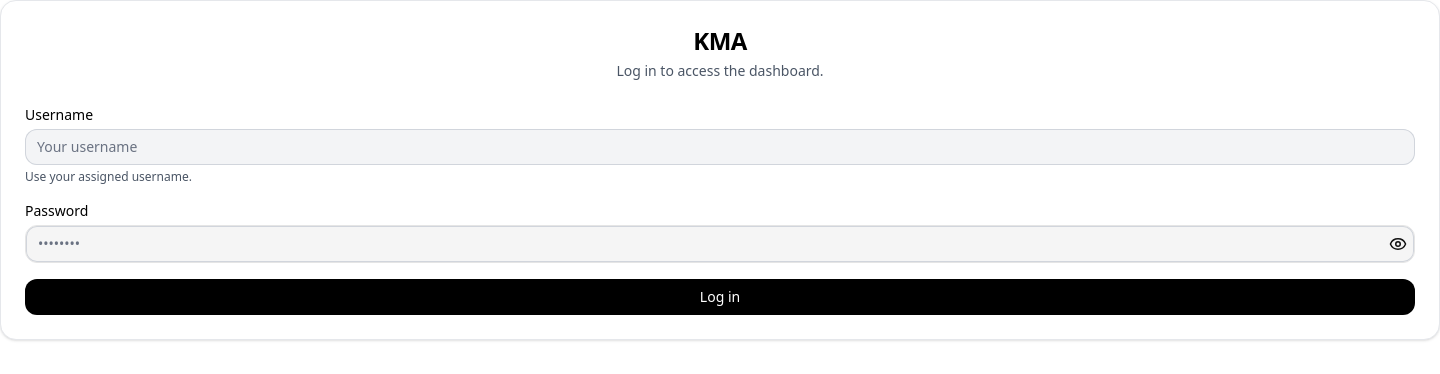
it: LoginForm › shows an error message when login fails
Type "admin" into the field labelled "Username" at (720, 147), box left=25, top=129, right=1415, bottom=165
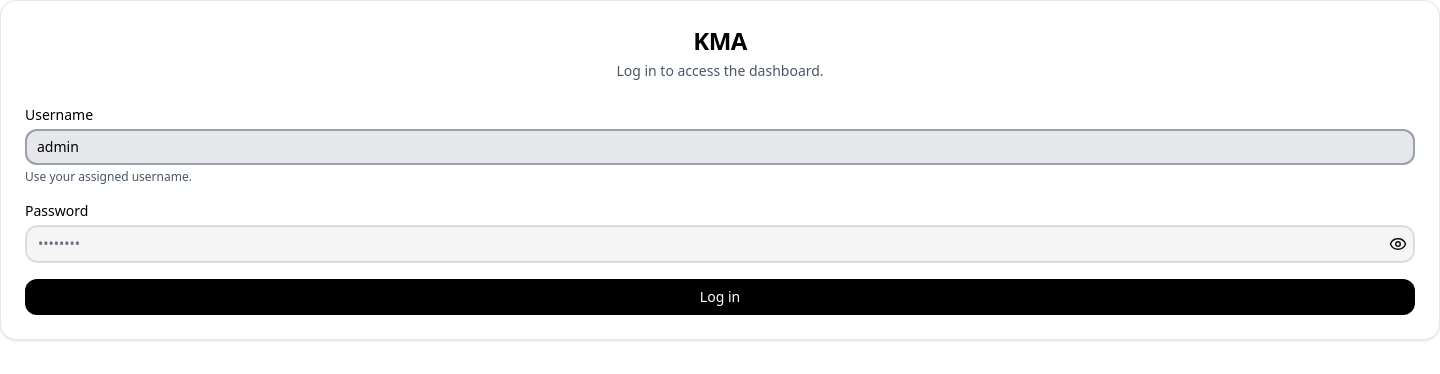
Type "wrong" into the password field labelled "Password" at (720, 244), box left=25, top=225, right=1415, bottom=263
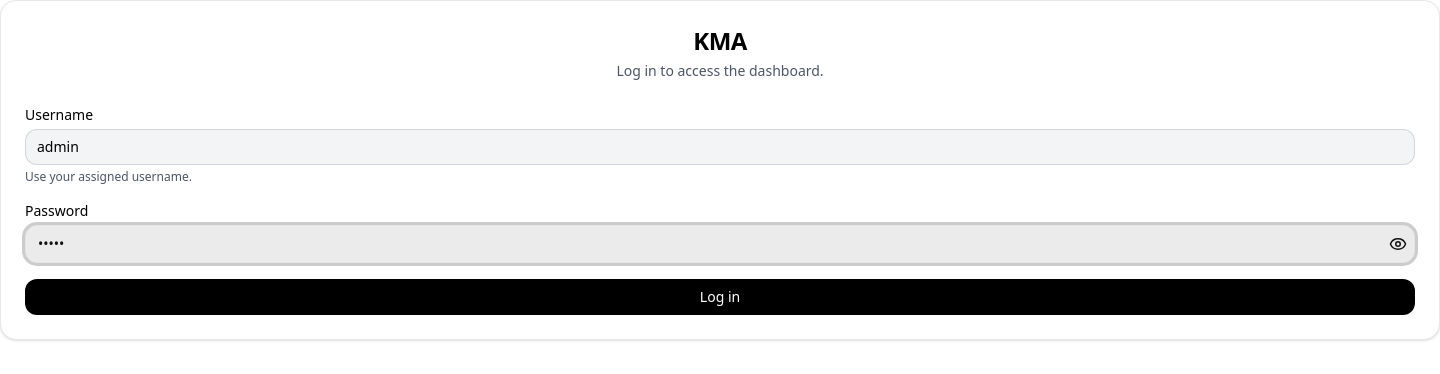
Click the button "Log in" at (720, 297), box left=25, top=279, right=1415, bottom=315
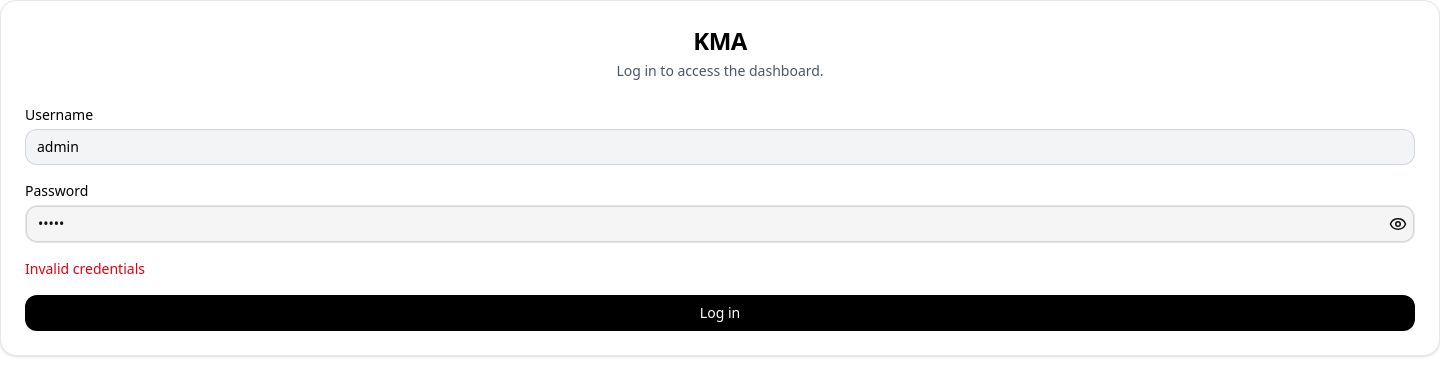
Expected: the text "Invalid credentials" is shown, left=25, top=259, right=145, bottom=278
